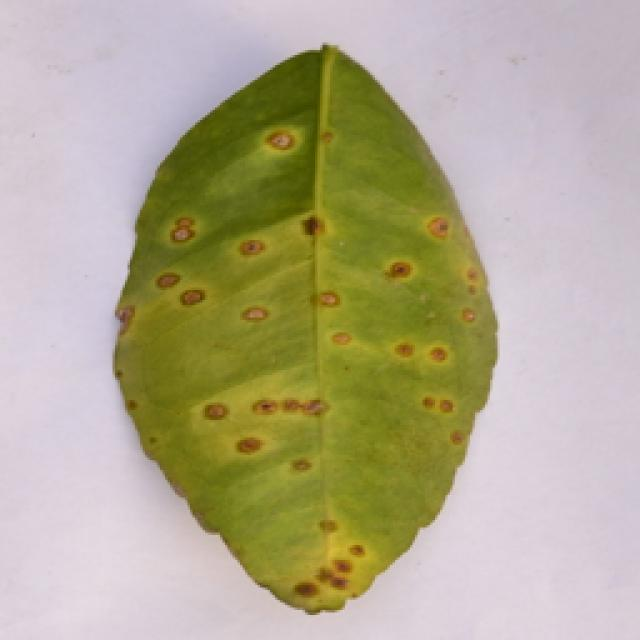canker: (121, 75, 551, 597)
